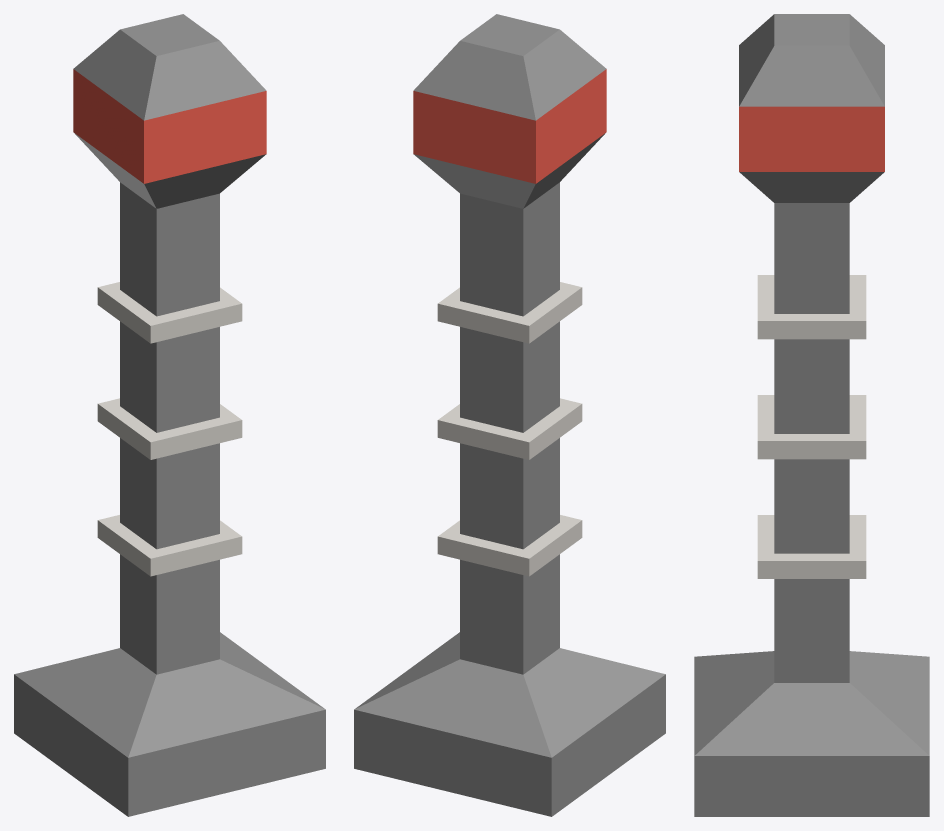
The model's file is 06 Antenna.FBX.
The picture shows the model from 3 angles, left to right: view 1: azimuth 30°, elevation 25°; view 2: azimuth 150°, elevation 25°; view 3: azimuth 270°, elevation 25°; orthographic projection. The views are drawn at different scales.
Parts seen in each view (by area): view 1: Box085; view 2: Box085; view 3: Box085.
Part boxes in pixels (<box>): Box085: <box>14,14,325,816</box>; Box085: <box>354,14,665,816</box>; Box085: <box>694,14,929,816</box>.
Bounding box in the file's own units: 350 × 1211 × 350.
